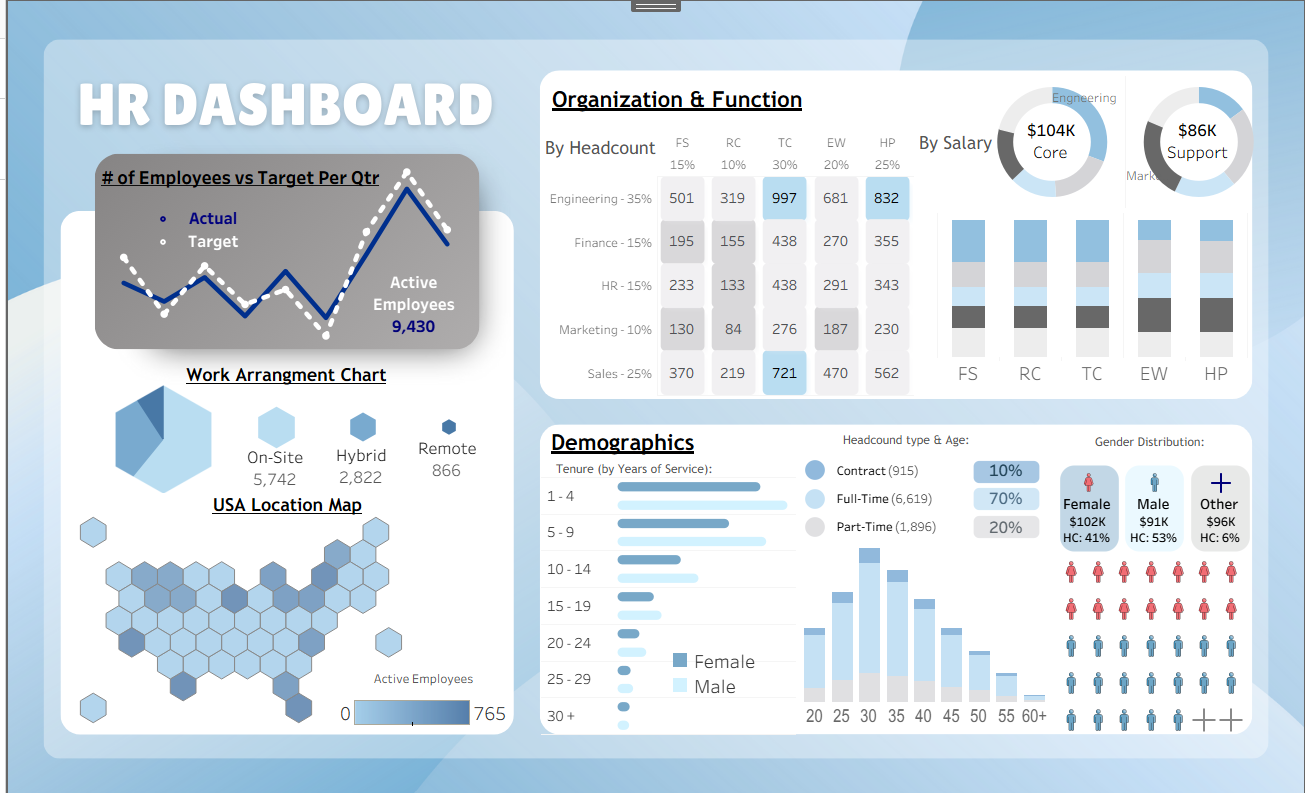

The dashboard page shown, as its layout file describes it:
{"tool":"tableau","page":{"name":"Dashboard 1","canvas":[1300,800],"ordinal":0},"visuals":[{"type":"image","param":"Image/HR Dashboard.png","box":[0,0,1300,800]},{"type":"worksheet","title":"Org Cat","mark":"Automatic","rows":["Calculation_76209395277156373","Calculation_76209395277168663"],"cols":["Org Category"],"box":[973,77,293,132]},{"type":"text","box":[1042,83,69,31]},{"type":"text","box":[542,85,281,30]},{"type":"text","box":[909,129,281,30]},{"type":"worksheet","title":"Org/Function - Headcount","mark":"Automatic","rows":["Org %s (copy)_76209394630299662"],"cols":["Org Category","Organization","Calculation_76209394629693453","Calculation_76209394627395589","Calculation_76209394627403783"],"box":[535,133,373,264]},{"type":"text","box":[535,134,281,30]},{"type":"text","box":[90,152,289,52]},{"type":"worksheet","title":"Actuals Vs. Target","mark":"Line","rows":["Actual","Target"],"cols":["Year-Quarter"],"box":[97,162,365,185]},{"type":"text","box":[1116,166,49,21]},{"type":"worksheet","title":"Trend Legend","mark":"Automatic","cols":["Calculation_5003147385563664385","Calculation_5003147385563672579"],"box":[131,208,102,46]},{"type":"worksheet","title":"Org/Function - Salary","mark":"Automatic","rows":["Salary"],"cols":["Org Category","Organization"],"box":[931,214,311,173]},{"type":"worksheet","title":"Active","mark":"Automatic","box":[345,268,127,75]},{"type":"text","box":[56,361,449,30]},{"type":"worksheet","title":"Site","mark":"Pie","rows":["Calculation_5003147385569718277","Calculation_5003147385569730567"],"box":[88,386,138,108]},{"type":"worksheet","title":"Site Legend","mark":"Shape","rows":["Calculation_5003147385572315148"],"cols":["Site"],"box":[227,395,259,99]},{"type":"blank","box":[8,400,1284,392]},{"type":"text","box":[541,424,281,38]},{"type":"text","box":[833,425,281,32]},{"type":"worksheet","title":"Gender Legend","mark":"Shape","rows":["Calculation_76209396079157292","Calculation_76209396079165486"],"cols":["Gender"],"box":[1049,441,199,137]},{"type":"text","box":[546,455,281,30]},{"type":"worksheet","title":"Type Legend","mark":"Automatic","rows":["Employee Type"],"cols":["Calculation_76209395726589988","Calculation_76209395726598182","Calculation_76209395726606376"],"box":[795,457,273,85]},{"type":"worksheet","title":"Tenure","mark":"Line","rows":["Service Years (bin)","Calculation_76209395390402593","Gender"],"box":[535,478,255,258]},{"type":"text","box":[57,491,449,30]},{"type":"worksheet","title":"Hex Map","mark":"Automatic","box":[35,508,416,226]},{"type":"worksheet","title":"Age","mark":"Automatic","rows":["Employee ID"],"cols":["Age (bin)"],"box":[795,541,247,184]},{"type":"worksheet","title":"Gender","mark":"Shape","rows":["Rows"],"cols":["Columns"],"box":[1052,554,186,186]},{"type":"legend","title":"Tenure","param":"[federated.0t2slg5128gq8l1gup4n102ji9vz].[none:Gender:nk]","box":[662,649,140,71]},{"type":"legend","title":"Hex Map","param":"[federated.0t2slg5128gq8l1gup4n102ji9vz].[ctd:Employee ID:qk]","box":[330,671,175,85]}]}

Visuals, with their boxes in screenshot pixels (x1, y1, x2, y2), scaled from the page's 1300x800 canvas onto the 1305x793 screenshot:
image: x1=0, y1=0, x2=1304, y2=792
"Org Cat" worksheet: x1=977, y1=76, x2=1271, y2=207
text: x1=1046, y1=82, x2=1115, y2=113
text: x1=544, y1=84, x2=826, y2=114
text: x1=912, y1=128, x2=1195, y2=158
"Org/Function - Headcount" worksheet: x1=537, y1=132, x2=911, y2=394
text: x1=537, y1=133, x2=819, y2=163
text: x1=90, y1=151, x2=380, y2=202
"Actuals Vs. Target" worksheet (Line marks): x1=97, y1=161, x2=464, y2=344
text: x1=1120, y1=165, x2=1169, y2=185
"Trend Legend" worksheet: x1=132, y1=206, x2=234, y2=252
"Org/Function - Salary" worksheet: x1=935, y1=212, x2=1247, y2=384
"Active" worksheet: x1=346, y1=266, x2=474, y2=340
text: x1=56, y1=358, x2=507, y2=388
"Site" worksheet (Pie marks): x1=88, y1=383, x2=227, y2=490
"Site Legend" worksheet (Shape marks): x1=228, y1=392, x2=488, y2=490
blank: x1=8, y1=396, x2=1297, y2=785
text: x1=543, y1=420, x2=825, y2=458
text: x1=836, y1=421, x2=1118, y2=453
"Gender Legend" worksheet (Shape marks): x1=1053, y1=437, x2=1253, y2=573
text: x1=548, y1=451, x2=830, y2=481
"Type Legend" worksheet: x1=798, y1=453, x2=1072, y2=537
"Tenure" worksheet (Line marks): x1=537, y1=474, x2=793, y2=730
text: x1=57, y1=487, x2=508, y2=516
"Hex Map" worksheet: x1=35, y1=504, x2=453, y2=728
"Age" worksheet: x1=798, y1=536, x2=1046, y2=719
"Gender" worksheet (Shape marks): x1=1056, y1=549, x2=1243, y2=734
"Tenure" legend: x1=665, y1=643, x2=805, y2=714
"Hex Map" legend: x1=331, y1=665, x2=507, y2=749
